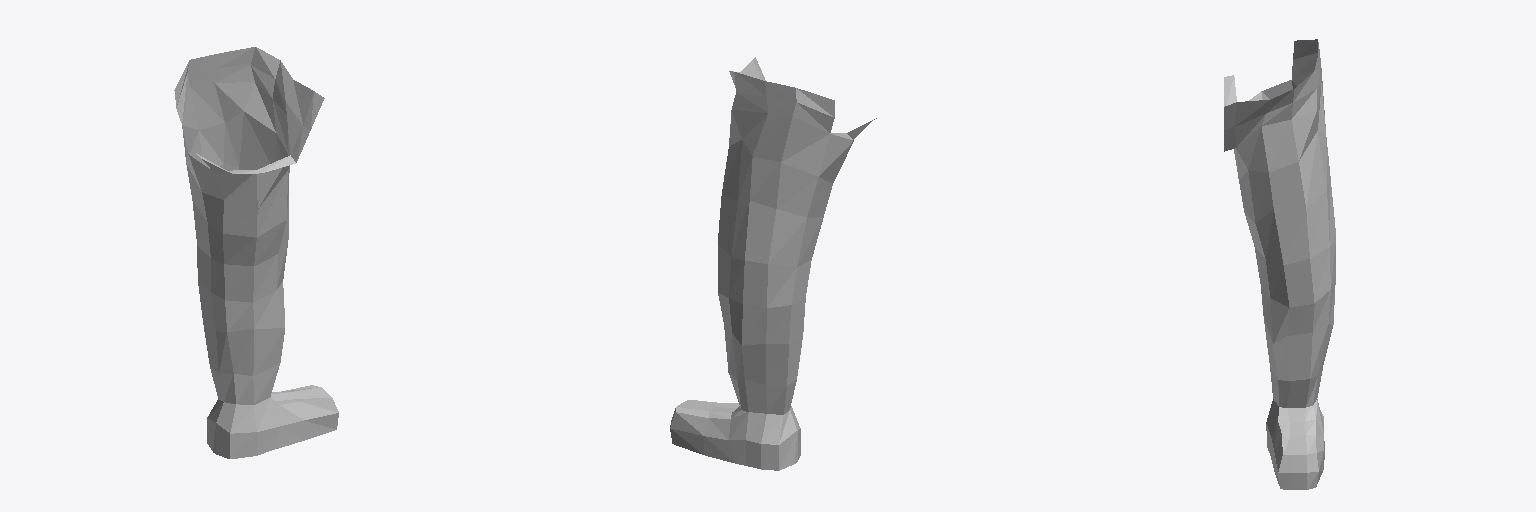
File: kakikanan1.obj
3 views of the same model, side by side, from view 1: azimuth 30°, elevation 25°; view 2: azimuth 150°, elevation 25°; view 3: azimuth 270°, elevation 25° (orthographic).
Parts seen in each view (by area): view 1: Body.000; view 2: Body.000; view 3: Body.000.
Boxes of the visible parts, x1,y1,x2,y2 form: Body.000: [174, 47, 338, 458]; Body.000: [670, 57, 876, 470]; Body.000: [1224, 39, 1335, 489].
Size of the model in its own units: 0.6474 by 1.44 by 0.3794.